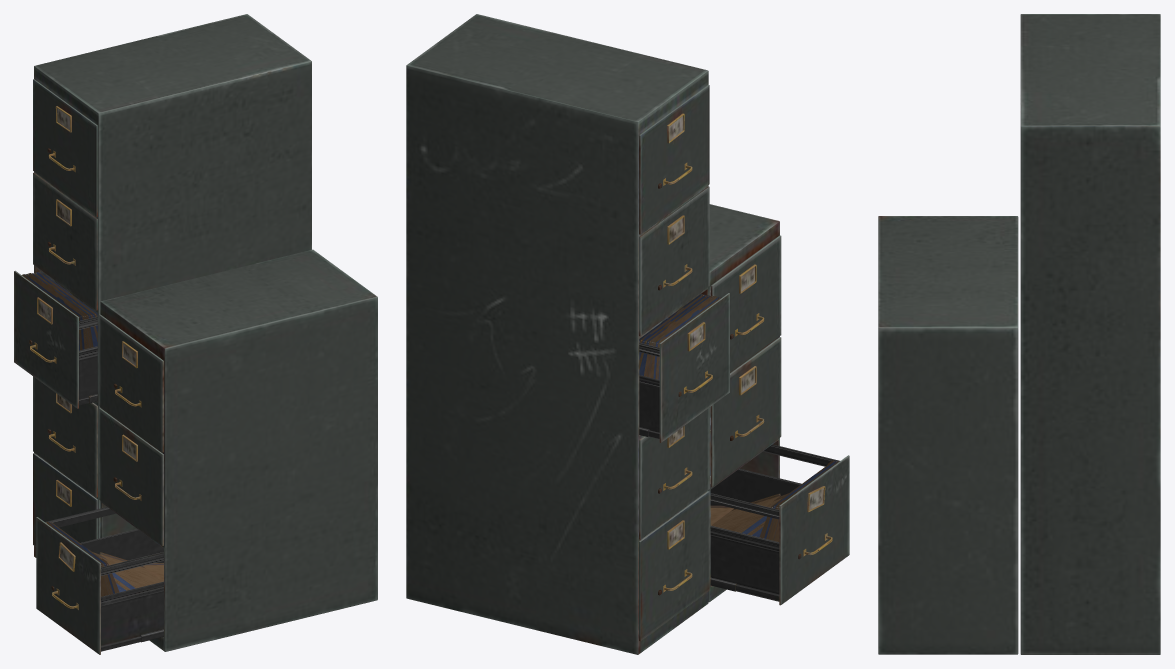
Rendered from office-drawer.glb.
3 views of the same model, side by side, from view 1: azimuth 30°, elevation 25°; view 2: azimuth 150°, elevation 25°; view 3: azimuth 270°, elevation 25° (orthographic). The views are drawn at different scales.
Visible parts, largest first — view 1: Cube_061, Cube, Cube_087, Cube_024, Cube_063, Cube_075, Cube_013, Cube_002, Cube_035, Cube_090, Cube_046, Cube_094 (+4 smaller); view 2: Cube, Cube_046, Cube_002, Cube_087, Cube_013, Cube_024, Cube_075, Cube_035, Cube_063, Cube_061, Cube_094, Cube_090 (+4 smaller); view 3: Cube, Cube_061.
Part boxes in pixels (x1=…): Cube_061: x1=100, y1=249, x2=377, y2=651; Cube: x1=34, y1=14, x2=311, y2=557; Cube_087: x1=36, y1=517, x2=100, y2=654; Cube_024: x1=14, y1=270, x2=78, y2=408; Cube_063: x1=99, y1=314, x2=163, y2=452; Cube_075: x1=99, y1=408, x2=163, y2=545; Cube_013: x1=33, y1=79, x2=97, y2=216; Cube_002: x1=33, y1=172, x2=97, y2=310; Cube_035: x1=33, y1=376, x2=97, y2=497; Cube_090: x1=101, y1=581, x2=163, y2=651; Cube_046: x1=33, y1=453, x2=97, y2=546; Cube_094: x1=80, y1=529, x2=163, y2=562; Cube: x1=406, y1=14, x2=708, y2=654; Cube_046: x1=639, y1=491, x2=709, y2=641; Cube_002: x1=639, y1=186, x2=709, y2=336; Cube_087: x1=779, y1=455, x2=849, y2=605; Cube_013: x1=639, y1=84, x2=709, y2=234; Cube_024: x1=659, y1=293, x2=729, y2=442; Cube_075: x1=711, y1=337, x2=781, y2=486; Cube_035: x1=639, y1=408, x2=709, y2=539; Cube_063: x1=711, y1=235, x2=781, y2=372; Cube_061: x1=708, y1=204, x2=779, y2=602; Cube_094: x1=710, y1=525, x2=779, y2=601; Cube_090: x1=710, y1=468, x2=801, y2=505; Cube: x1=1020, y1=14, x2=1160, y2=654; Cube_061: x1=878, y1=216, x2=1018, y2=654.
Size of the model in its own units: 128 by 210 by 102.
1 material, 1 textured.
